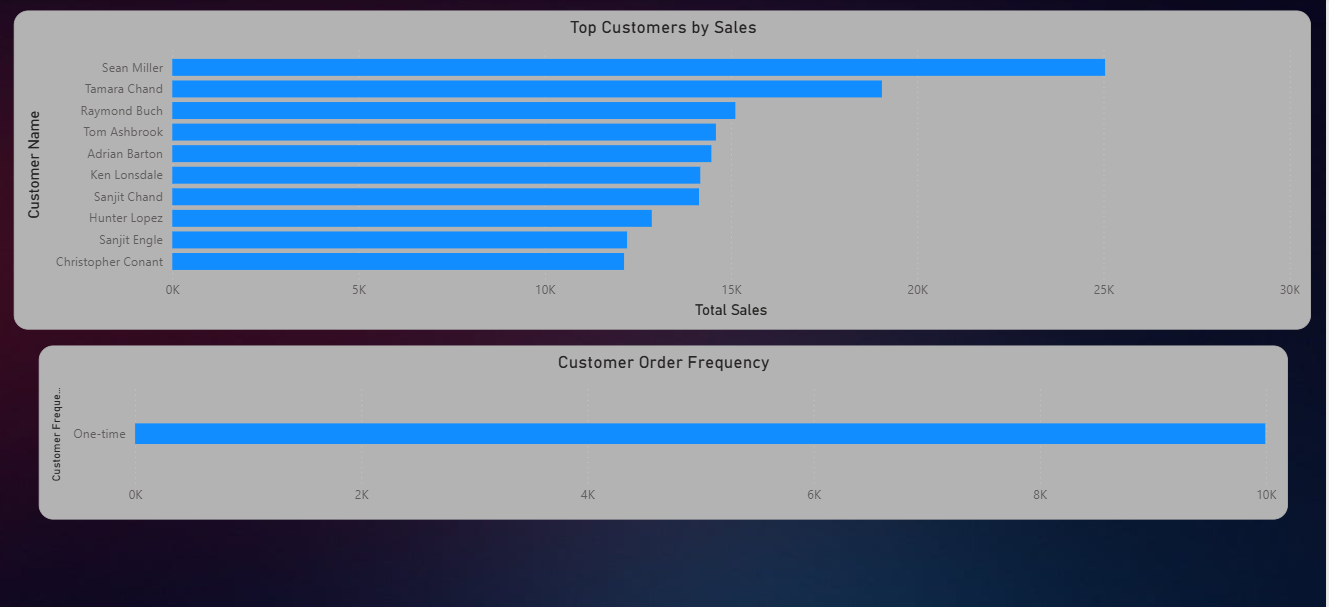

What the dashboard file says about the page in this screenshot:
{"tool":"powerbi","page":{"name":"Customer Insights","canvas":[1280,720],"ordinal":1},"visuals":[{"type":"clusteredBarChart","title":"Top Customers by Sales","fields":{"Category":["Superstore_Cleaned.Customer Name"],"Y":["Superstore_Cleaned.Total Sales"]},"box":[37,19.2,1206.2,307.4],"z":0},{"type":"clusteredBarChart","title":"Customer Order Frequency","fields":{"Category":["Superstore_Cleaned.Customer Frequency"],"Y":["Superstore_Cleaned.Customer Name"]},"box":[37.1,336.4,1205.9,168.2],"z":1000}]}

Visuals, with their boxes on the page's 1280x720 design canvas (x1, y1, x2, y2). These are canvas units, not pixel positions in the 1329x607 screenshot, which may show the page scaled, cropped or inside an application window:
"Top Customers by Sales" clusteredBarChart: box=[37, 19, 1243, 327]
"Customer Order Frequency" clusteredBarChart: box=[37, 336, 1243, 505]
